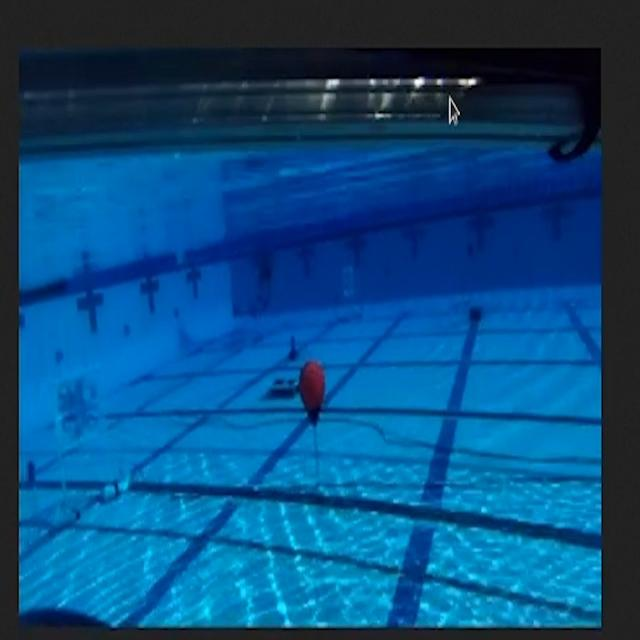Buoy: (299, 356, 329, 428)
